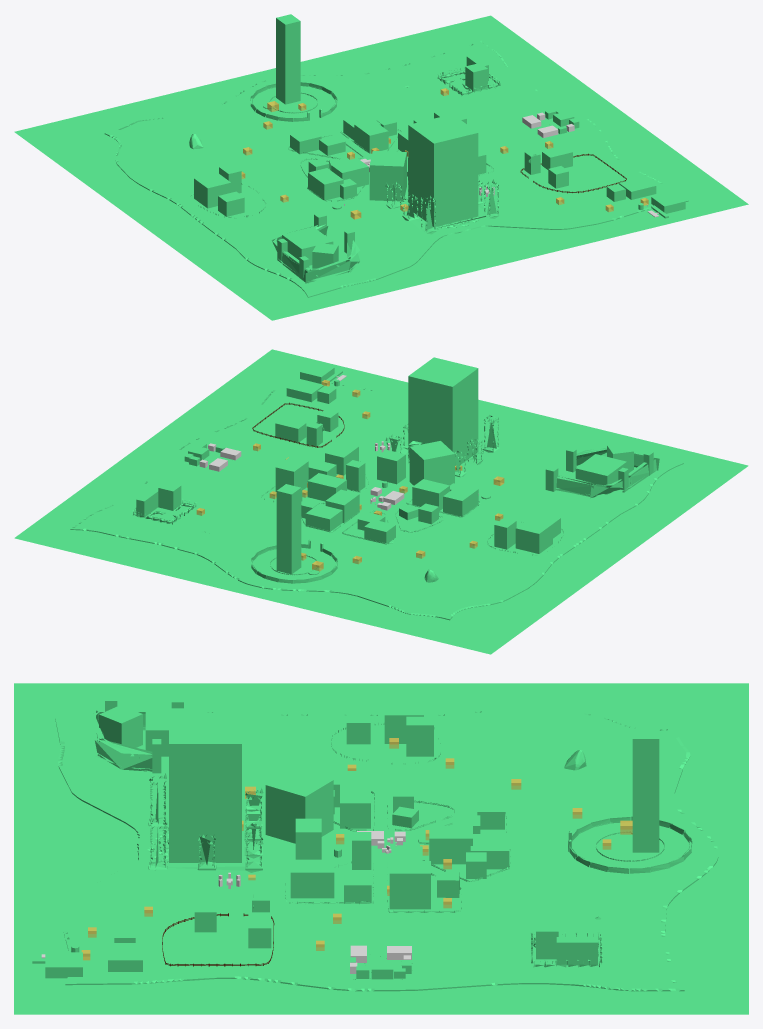
3 renders of one model, top to bottom at view 1: azimuth 30°, elevation 25°; view 2: azimuth 150°, elevation 25°; view 3: azimuth 270°, elevation 25°, orthographic. The views are drawn at different scales.
Visible parts, largest first — view 1: COL_Ground, COL_Water, COL_Temple_SecondAge_Level2, COL_House_3.001, COL_Barracks_SecondAge_Level3, COL_Wall_SecondAge.002, COL_WonderWalls_SecondAge, COL_Barracks_FirstAge_Level2.001, COL_Blacksmith, COL_Houses_SecondAge_2_Level2.001, COL_Stable.001, COL_Houses_SecondAge_2_Level2.002 (+8 smaller); view 2: COL_Ground, COL_Water, COL_Temple_SecondAge_Level2, COL_House_3.001, COL_Wall_SecondAge.002, COL_Barracks_SecondAge_Level3, COL_WonderWalls_SecondAge, COL_Barracks_FirstAge_Level2.001, COL_Blacksmith, COL_Inn, COL_Stable.001, COL_TowerHouse_SecondAge (+13 smaller); view 3: COL_Ground, COL_Water, COL_Temple_SecondAge_Level2, COL_Barracks_SecondAge_Level3, COL_House_3.001, COL_WonderWalls_SecondAge, COL_Inn, COL_Houses_SecondAge_2_Level2, COL_Wall_SecondAge.002, COL_Houses_SecondAge_2_Level2.001, COL_House_2.001, COL_Wall_SecondAge (+19 smaller).
Boxes of the visible parts, x1=… form: COL_Ground: x1=104, y1=39, x2=688, y2=297; COL_Water: x1=14, y1=15, x2=748, y2=320; COL_Temple_SecondAge_Level2: x1=408, y1=114, x2=478, y2=226; COL_House_3.001: x1=276, y1=14, x2=300, y2=104; COL_Barracks_SecondAge_Level3: x1=369, y1=151, x2=406, y2=201; COL_Wall_SecondAge.002: x1=271, y1=224, x2=360, y2=283; COL_WonderWalls_SecondAge: x1=385, y1=179, x2=499, y2=234; COL_Barracks_FirstAge_Level2.001: x1=282, y1=227, x2=333, y2=265; COL_Blacksmith: x1=194, y1=172, x2=231, y2=208; COL_Houses_SecondAge_2_Level2.001: x1=354, y1=120, x2=388, y2=153; COL_Stable.001: x1=308, y1=168, x2=343, y2=200; COL_Houses_SecondAge_2_Level2.002: x1=331, y1=158, x2=368, y2=187; COL_Ground: x1=70, y1=372, x2=683, y2=620; COL_Water: x1=14, y1=349, x2=748, y2=654; COL_Temple_SecondAge_Level2: x1=408, y1=357, x2=478, y2=465; COL_House_3.001: x1=276, y1=484, x2=301, y2=574; COL_Wall_SecondAge.002: x1=556, y1=448, x2=659, y2=498; COL_Barracks_SecondAge_Level3: x1=409, y1=441, x2=454, y2=485; COL_WonderWalls_SecondAge: x1=385, y1=415, x2=499, y2=477; COL_Barracks_FirstAge_Level2.001: x1=575, y1=454, x2=626, y2=494; COL_Blacksmith: x1=515, y1=518, x2=552, y2=553; COL_Inn: x1=275, y1=456, x2=308, y2=491; COL_Stable.001: x1=443, y1=484, x2=478, y2=516; COL_TowerHouse_SecondAge: x1=377, y1=449, x2=405, y2=484; COL_Ground: x1=55, y1=709, x2=718, y2=991; COL_Water: x1=14, y1=683, x2=748, y2=1014; COL_Temple_SecondAge_Level2: x1=169, y1=713, x2=241, y2=862; COL_Barracks_SecondAge_Level3: x1=265, y1=768, x2=333, y2=843; COL_House_3.001: x1=632, y1=728, x2=659, y2=852; COL_WonderWalls_SecondAge: x1=148, y1=773, x2=263, y2=872; COL_Inn: x1=389, y1=861, x2=430, y2=909; COL_Houses_SecondAge_2_Level2: x1=290, y1=859, x2=334, y2=898; COL_Wall_SecondAge.002: x1=87, y1=709, x2=207, y2=771; COL_Houses_SecondAge_2_Level2.001: x1=429, y1=825, x2=472, y2=864; COL_House_2.001: x1=99, y1=705, x2=142, y2=747; COL_Wall_SecondAge: x1=569, y1=816, x2=692, y2=873.
Bounding box in the file's own units: 320 × 56.78 × 300.
Materials: 3 (1 with a texture image).
